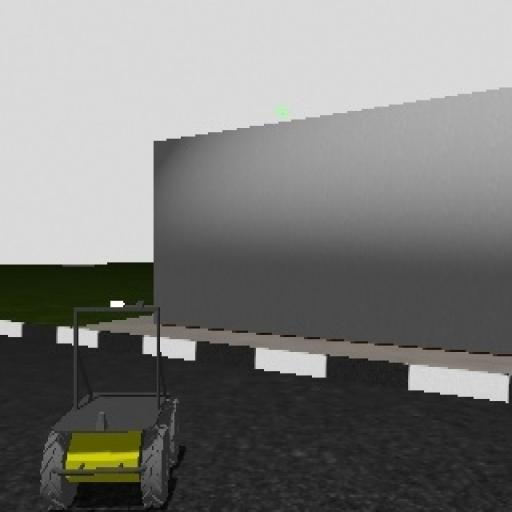huskya200: (36, 293, 183, 512)
